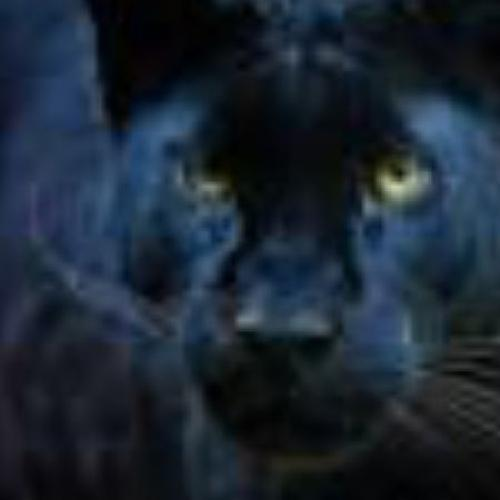panther-endangered: (38, 20, 483, 483)
